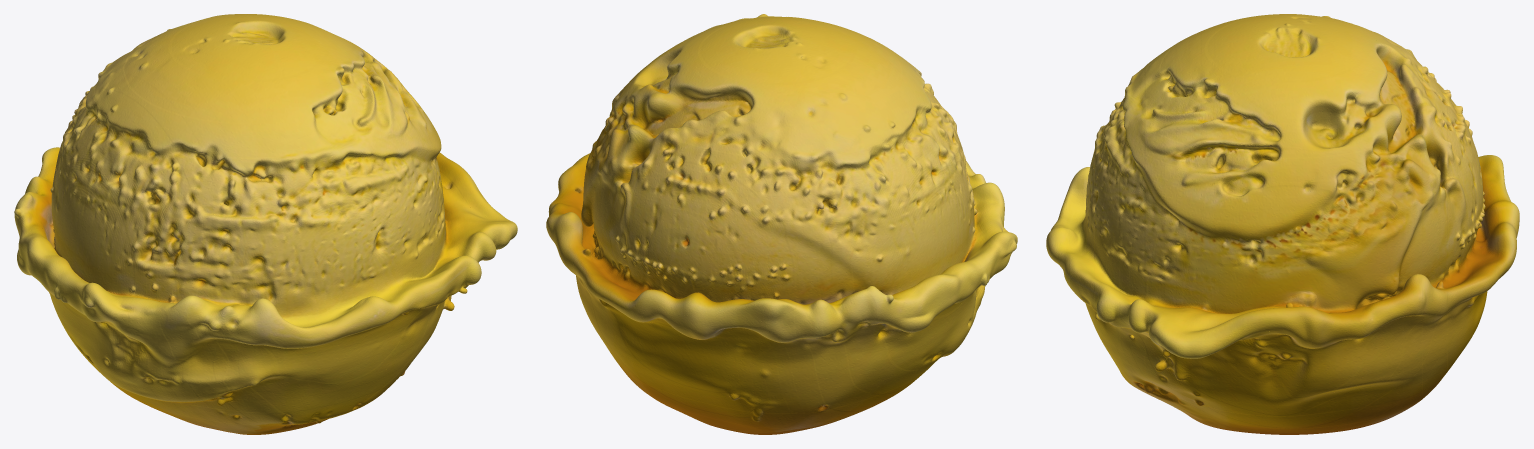
File: scoop_vanilla.glb
3 views of the same model, side by side, from view 1: azimuth 30°, elevation 25°; view 2: azimuth 150°, elevation 25°; view 3: azimuth 270°, elevation 25° (orthographic). The views are drawn at different scales.
Parts seen in each view (by area): view 1: tripo_node_e1e087e9-e775-41aa-a9ad-33e1b04775e6; view 2: tripo_node_e1e087e9-e775-41aa-a9ad-33e1b04775e6; view 3: tripo_node_e1e087e9-e775-41aa-a9ad-33e1b04775e6.
Boxes of the visible parts, bbox=[...] form: tripo_node_e1e087e9-e775-41aa-a9ad-33e1b04775e6: bbox=[14, 14, 517, 434]; tripo_node_e1e087e9-e775-41aa-a9ad-33e1b04775e6: bbox=[546, 14, 1017, 434]; tripo_node_e1e087e9-e775-41aa-a9ad-33e1b04775e6: bbox=[1046, 14, 1519, 434].
Size of the model in its own units: 1 by 0.8384 by 0.968.
1 material, 1 textured.
